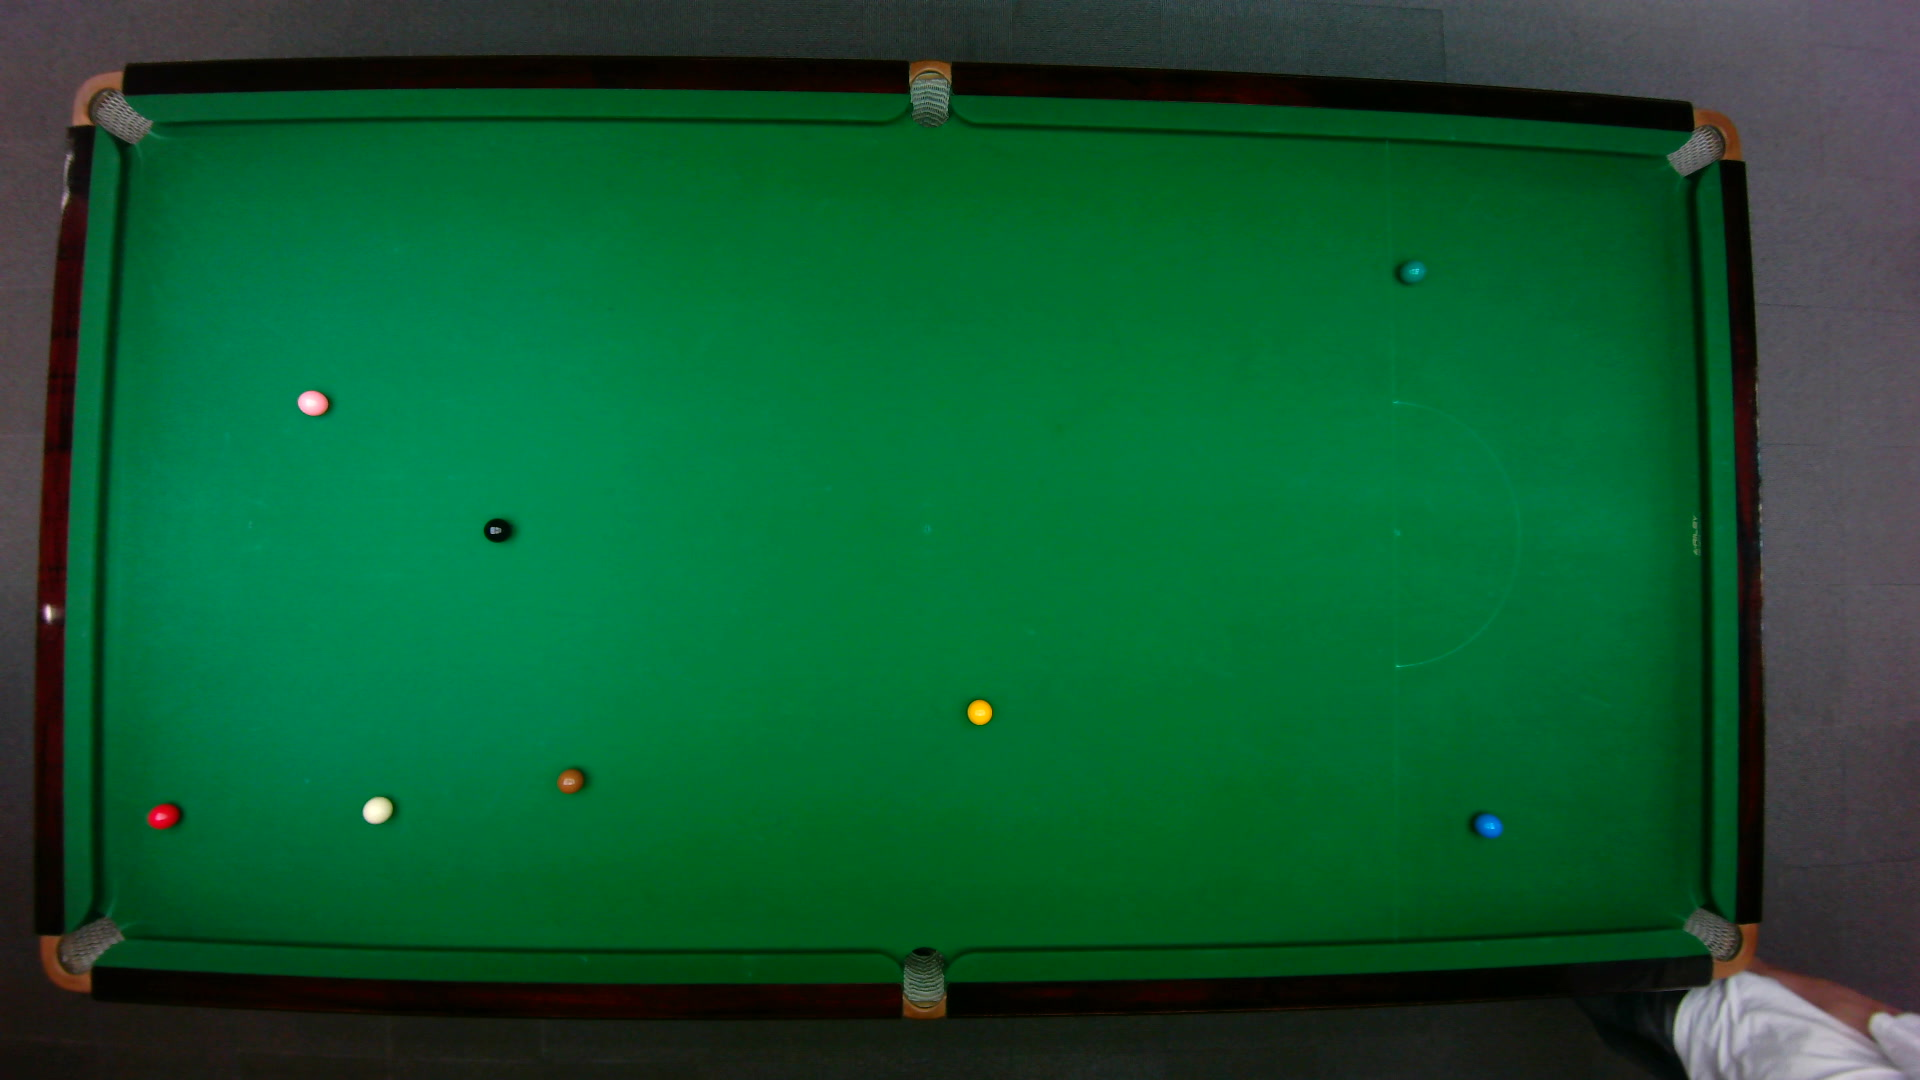bag: (38, 914, 127, 992), (69, 69, 152, 145), (1679, 905, 1758, 975), (1663, 107, 1741, 177), (901, 944, 944, 1021), (909, 57, 949, 128)
black: (481, 516, 512, 542)
blue: (1472, 811, 1503, 839)
brown: (555, 766, 584, 794)
green: (1396, 258, 1425, 284)
pink: (294, 386, 328, 415)
red: (145, 800, 179, 829)
white: (359, 793, 394, 824)
yellow: (964, 696, 993, 727)
zone: (1390, 398, 1520, 669)
